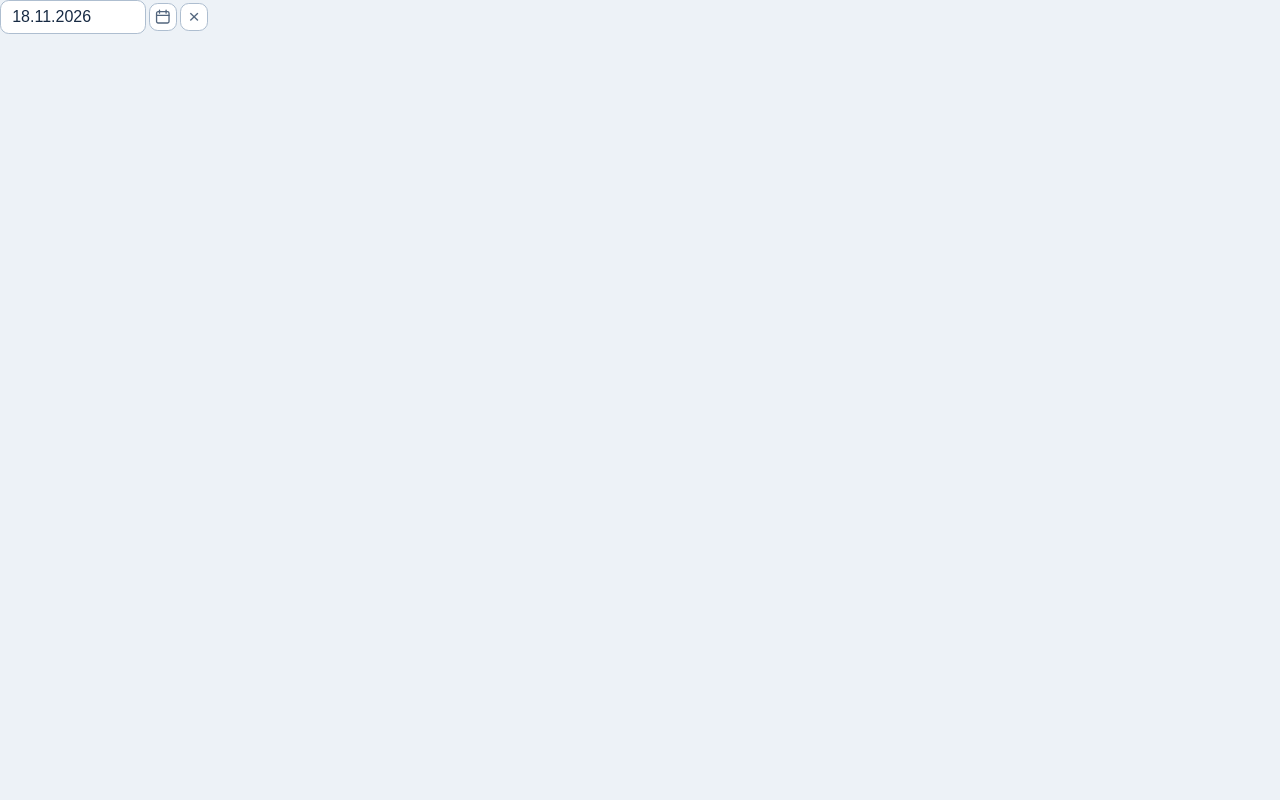
opens a custom calendar and stores the selected date in ISO format
Expected: the field named "Дата рождения" holds "18.11.2026", [0,0,146,34]
Click the button named "Выбрать дату": coordinates (163, 17) [149,3,177,31]
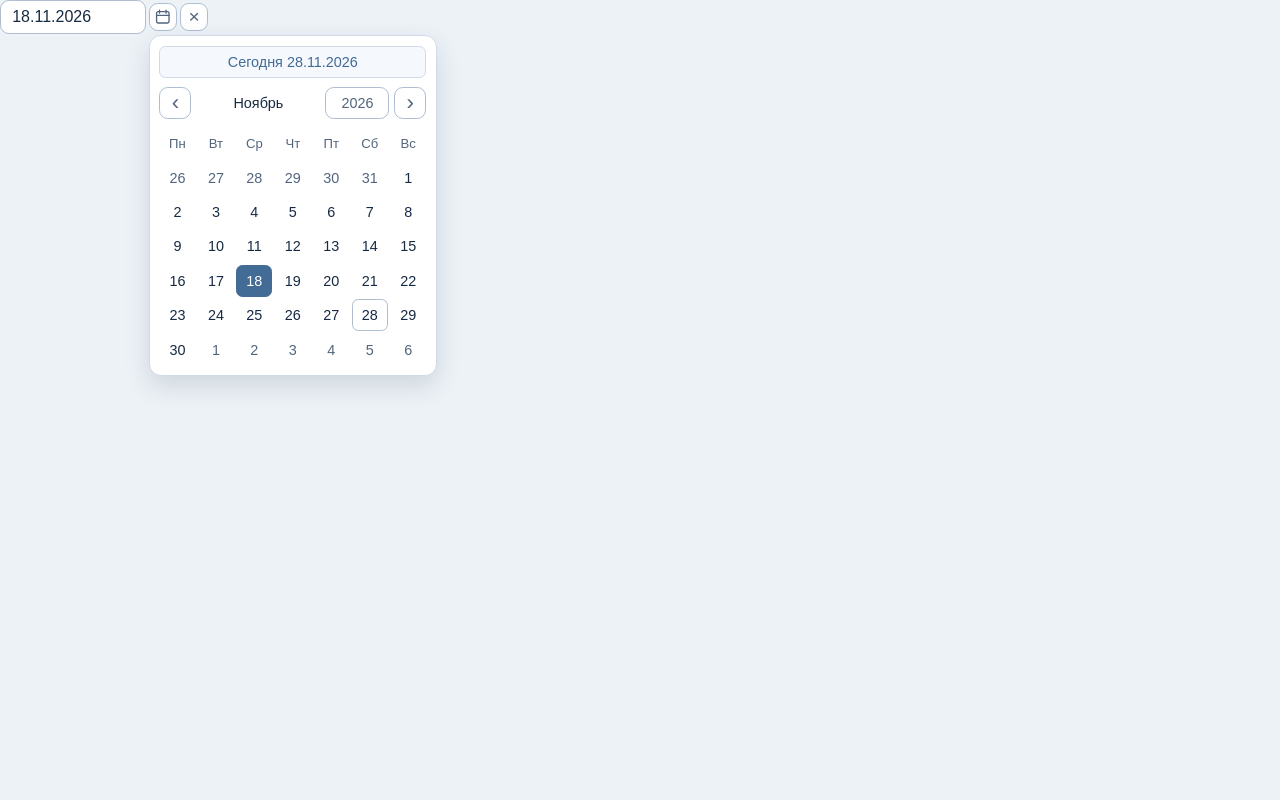
Click the button named "21 ноября 2026 г.": coordinates (370, 281) [352,265,388,297]
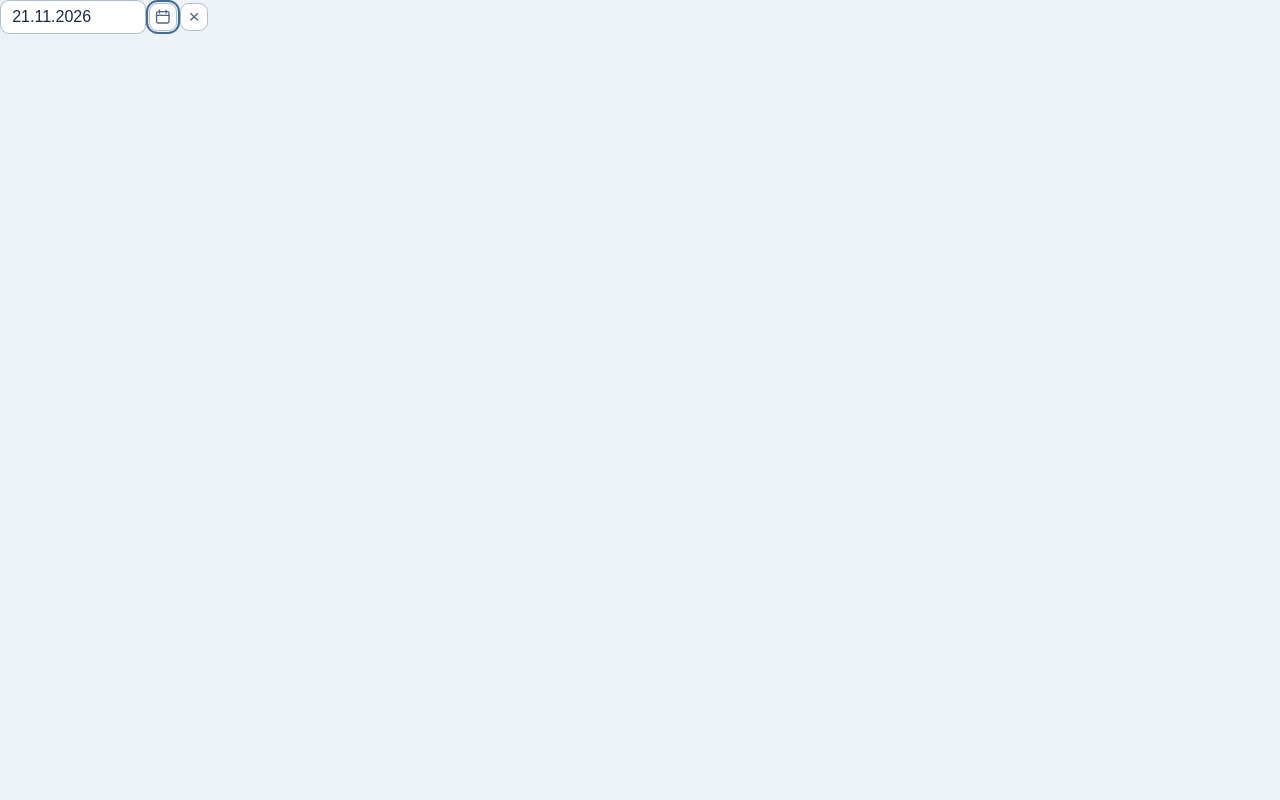
Now the field named "Дата рождения" holds "21.11.2026", box [0,0,146,34]
